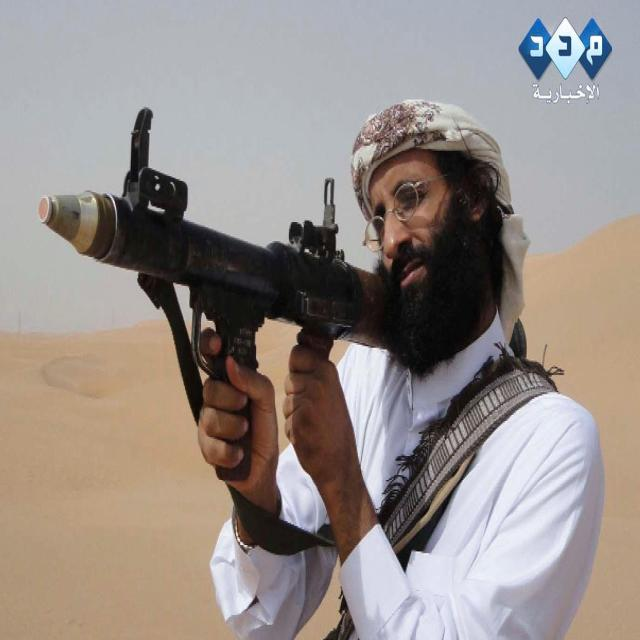bazooka: (19, 143, 459, 404)
